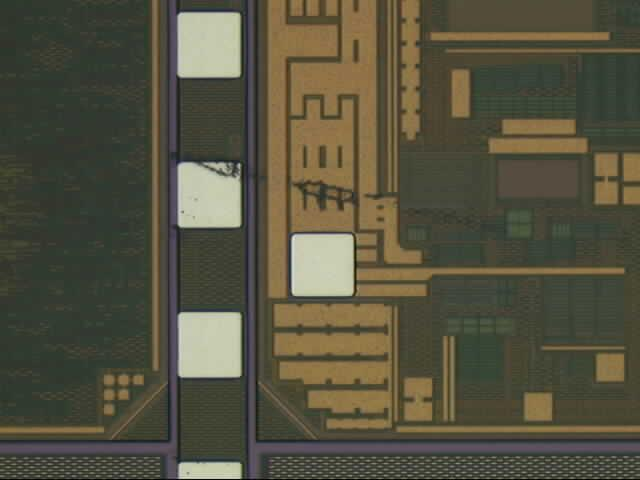SCRATCH: (159, 142, 370, 213)
